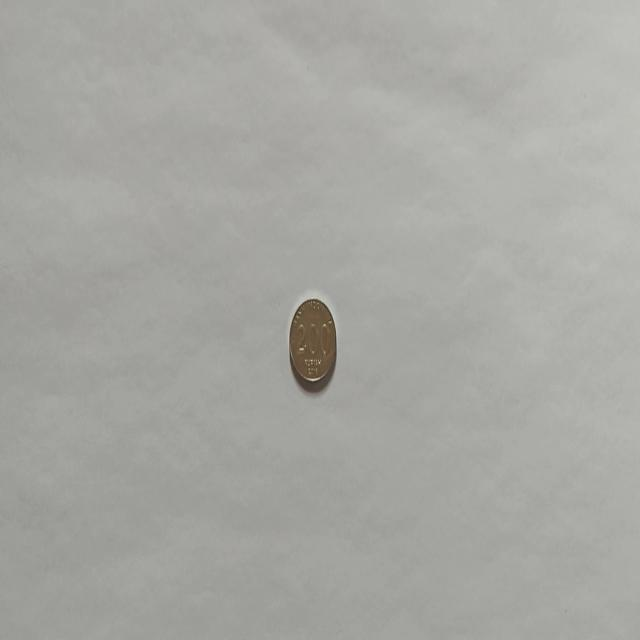dua ratus rupiah: (288, 296, 337, 386)
